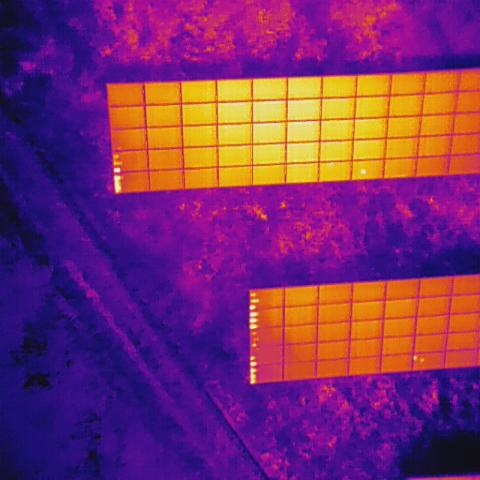fault: (114, 174, 124, 196), (358, 164, 370, 180), (250, 367, 259, 388), (111, 158, 126, 168), (249, 315, 260, 325), (249, 297, 263, 304), (250, 354, 257, 366), (249, 290, 259, 298), (250, 341, 260, 349), (412, 352, 418, 365), (248, 305, 261, 311), (114, 149, 121, 160), (248, 323, 259, 330), (420, 355, 427, 365), (249, 311, 261, 316), (114, 168, 124, 173)
